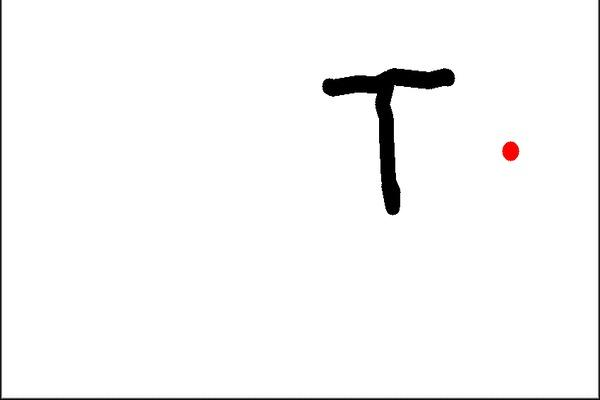T: (316, 59, 453, 217)
